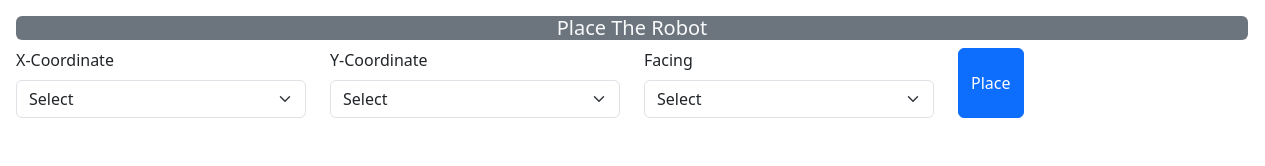
y-coord should not be blank
Select "2" in the dropdown with test id "xCoord". click: (161, 99)
box: [16,80,306,118]
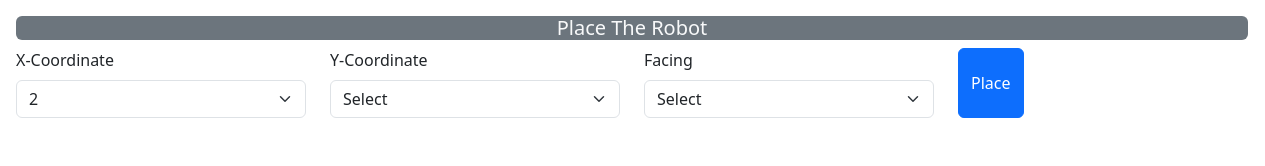
Select "Select" in the dropdown with test id "yCoord". click: (475, 99)
box: [330,80,620,118]
Select "NORTH" in the dropdown with test id "facing". click: (789, 99)
box: [644,80,934,118]
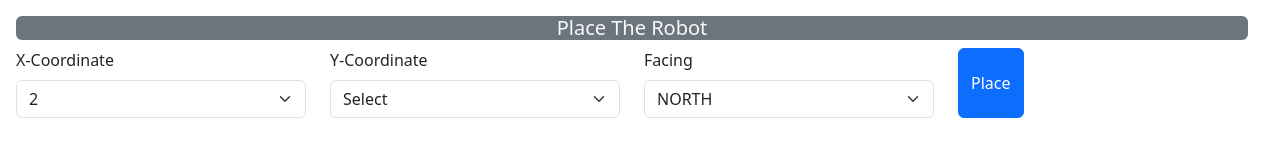
Click the button "Place". click: (991, 83)
box: [958,48,1024,118]
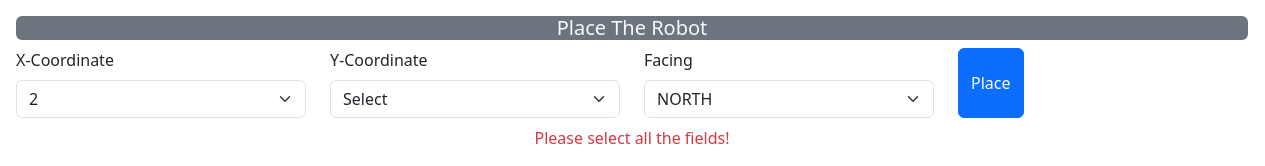
Expected: the text "Please select all the fields!" is shown, [534,127,730,149]
